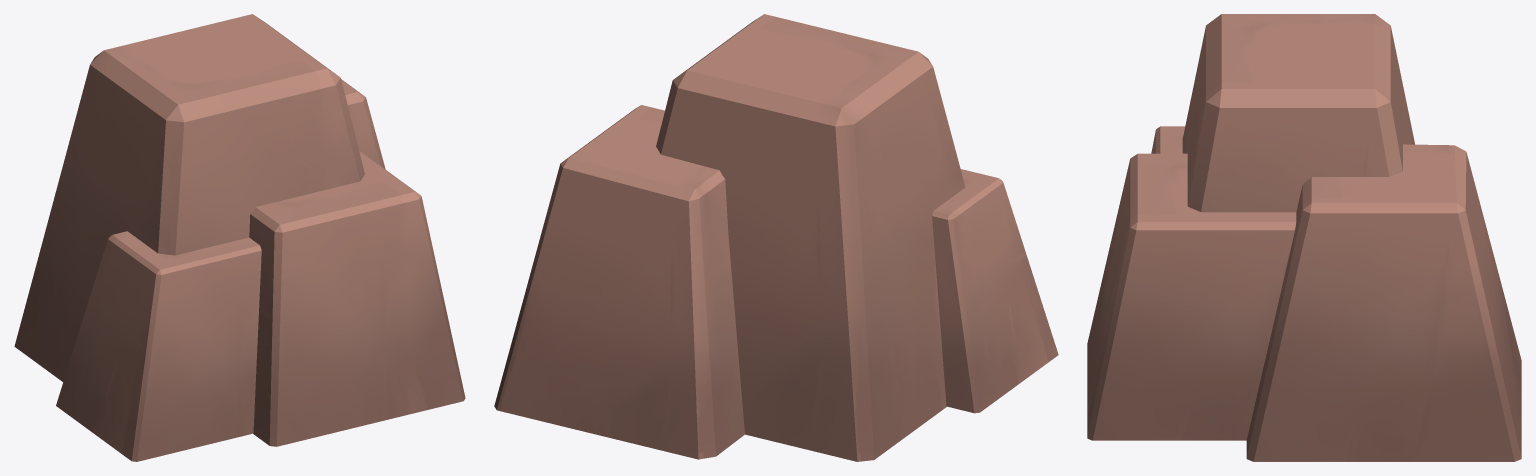
File: rocks 5.fbx
3 views of the same model, side by side, from view 1: azimuth 30°, elevation 25°; view 2: azimuth 150°, elevation 25°; view 3: azimuth 270°, elevation 25° (orthographic). The views are drawn at different scales.
Parts seen in each view (by area): view 1: Cube.004; view 2: Cube.004; view 3: Cube.004.
Boxes of the visible parts, bbox=[...] form: Cube.004: bbox=[14, 14, 465, 461]; Cube.004: bbox=[494, 14, 1058, 461]; Cube.004: bbox=[1087, 14, 1521, 461].
Bounding box in the file's own units: 227 × 184 × 231.
